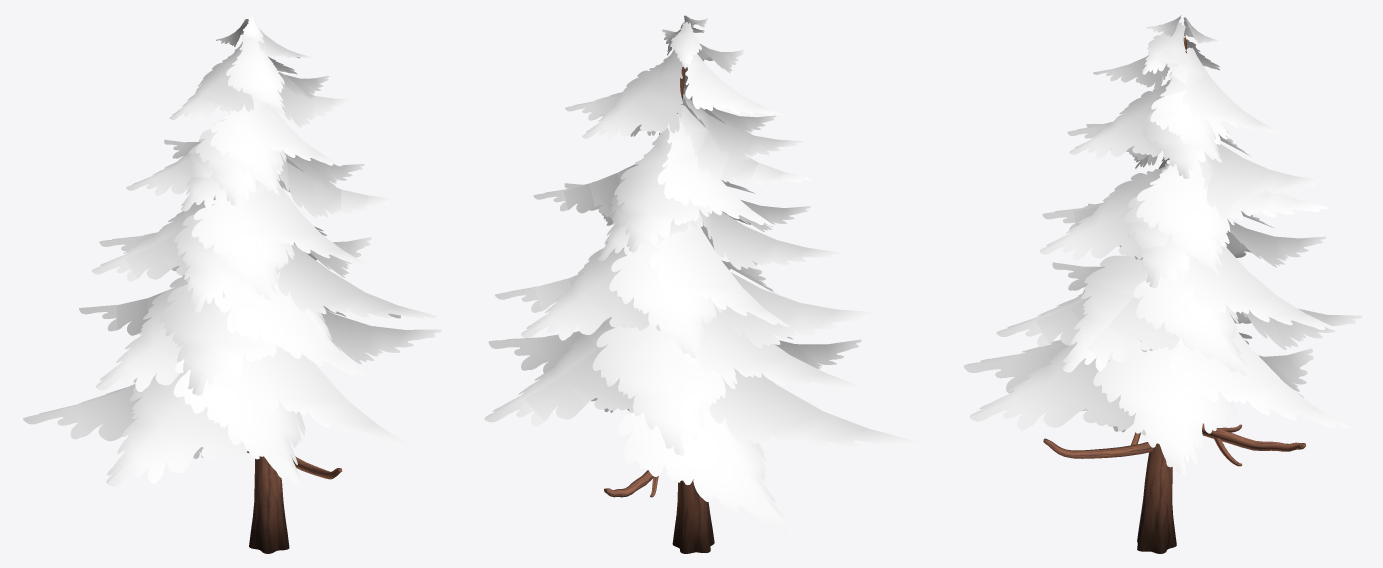
The model's file is Pine_2.gltf.
The picture shows the model from 3 angles, left to right: view 1: azimuth 30°, elevation 25°; view 2: azimuth 150°, elevation 25°; view 3: azimuth 270°, elevation 25°; orthographic projection. The views are drawn at different scales.
Visible parts, largest first — view 1: Pine_2; view 2: Pine_2; view 3: Pine_2.
Part boxes in pixels (<box>): Pine_2: <box>23,16,441,553</box>; Pine_2: <box>484,15,917,553</box>; Pine_2: <box>963,15,1362,553</box>.
Bounding box in the file's own units: 5.73 × 7.38 × 5.22.
2 materials, 2 textured.
